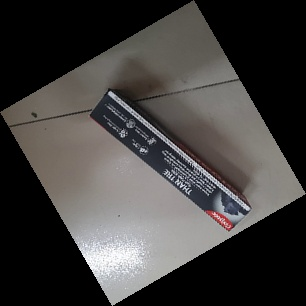Colgate Than: (90, 88, 253, 232)
